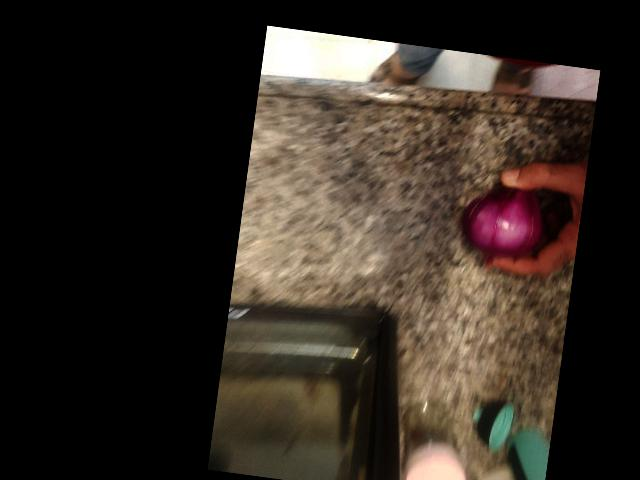onion: (244, 172, 339, 263)
